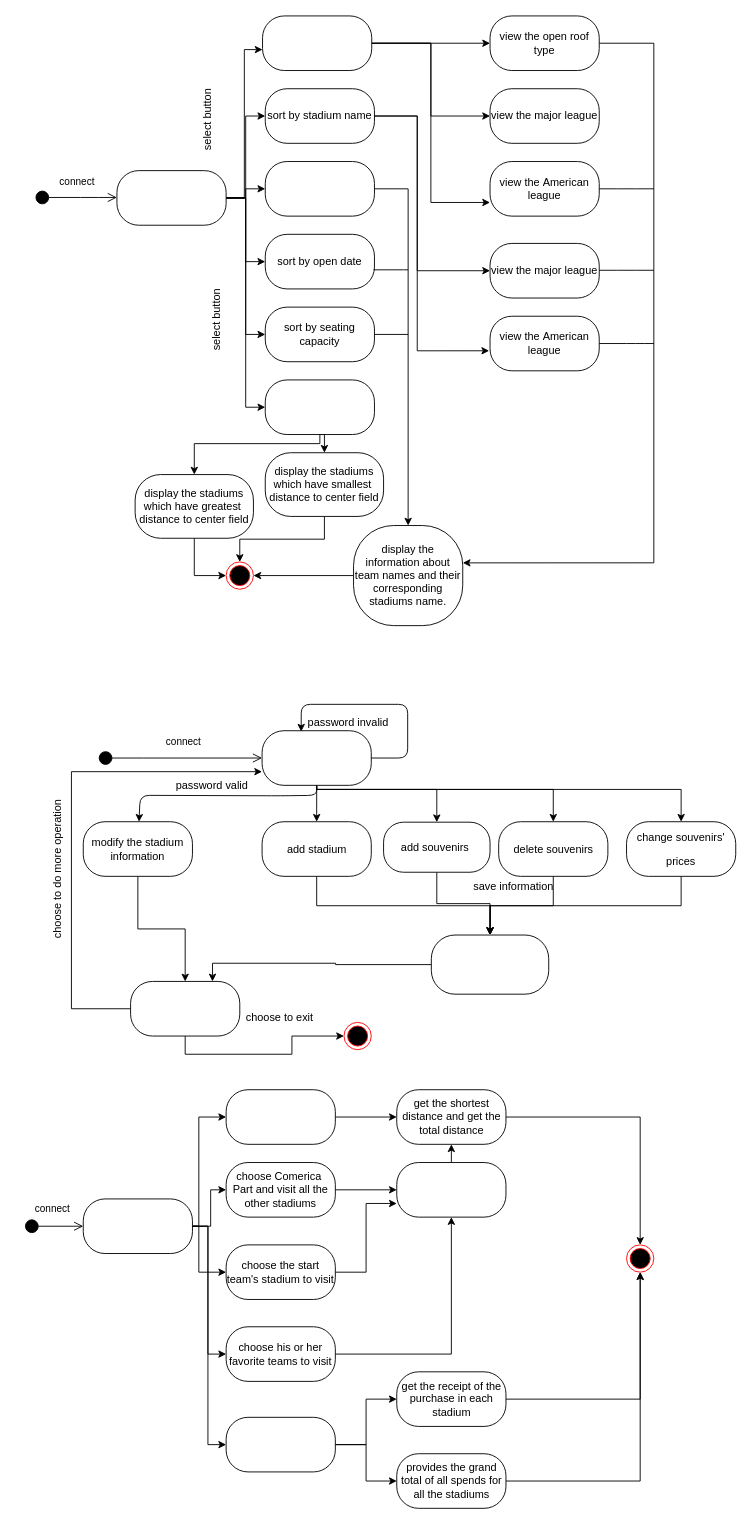
Some shapes in this 752 by 1527 pixel diagram are drawn without their labels. The shapes that lost their labels are listed below. From the top down, each one's centre as x and y in pixels, then its label:
the point at 317,43: sort by team name
the point at 171,197: view the information about the MLB
the point at 319,188: sort by park typology
the point at 319,407: sort by distance to center field
the point at 316,757: administrator login
the point at 489,964: display information
the point at 185,1008: choose whether to exit
the point at 280,1116: start with Angel Stadium
the point at 451,1189: get the closest distance from the previous stadium
the point at 137,1226: baseball fan wants to take the trip
the point at 280,1444: buy souvenirs
